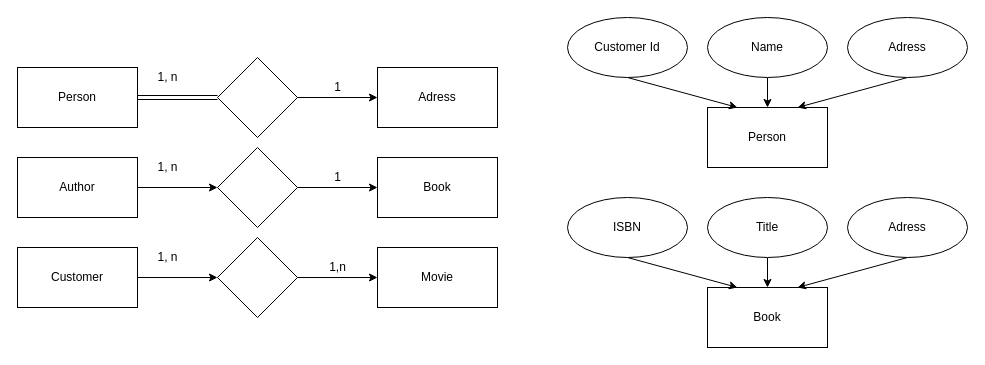
The diagram is 985 pixels wide and 365 high, and some of its shapes have lost their labels. The shapes that lost their labels are listed below. From the top down, each one's centre as x and y in pixels, then its label:
At [257,97]: "Lives at".
At [257,187]: "Wrote".
At [257,277]: "Rents".
